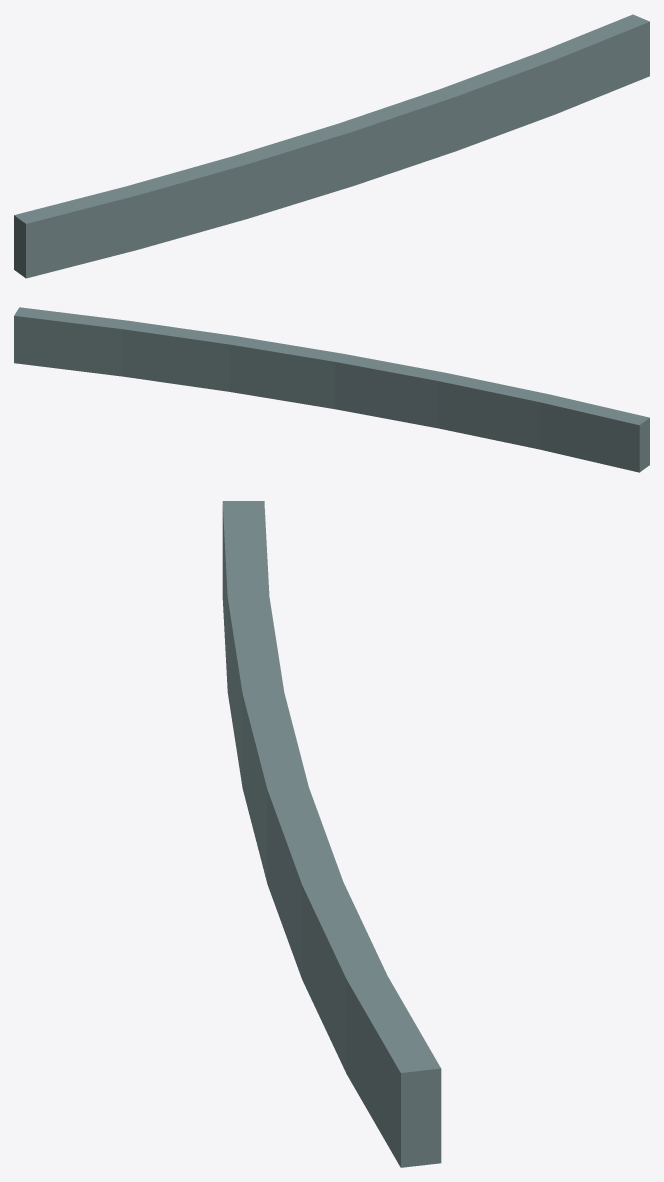
File: RoadPlan_WalkCurve_2L_A15_R18_Curb_1.glb
3 renders of one model, top to bottom at view 1: azimuth 30°, elevation 25°; view 2: azimuth 150°, elevation 25°; view 3: azimuth 270°, elevation 25°, orthographic. The views are drawn at different scales.
Parts seen in each view (by area): view 1: RoadPlan_WalkCurve_2L_A15_R18_Curb_1; view 2: RoadPlan_WalkCurve_2L_A15_R18_Curb_1; view 3: RoadPlan_WalkCurve_2L_A15_R18_Curb_1.
Part boxes in pixels (left/top/right/bottom): RoadPlan_WalkCurve_2L_A15_R18_Curb_1: left=14, top=14, right=649, bottom=278; RoadPlan_WalkCurve_2L_A15_R18_Curb_1: left=14, top=307, right=649, bottom=472; RoadPlan_WalkCurve_2L_A15_R18_Curb_1: left=222, top=501, right=441, bottom=1167.
Size of the model in its own units: 3.88 by 0.3 by 0.627.
